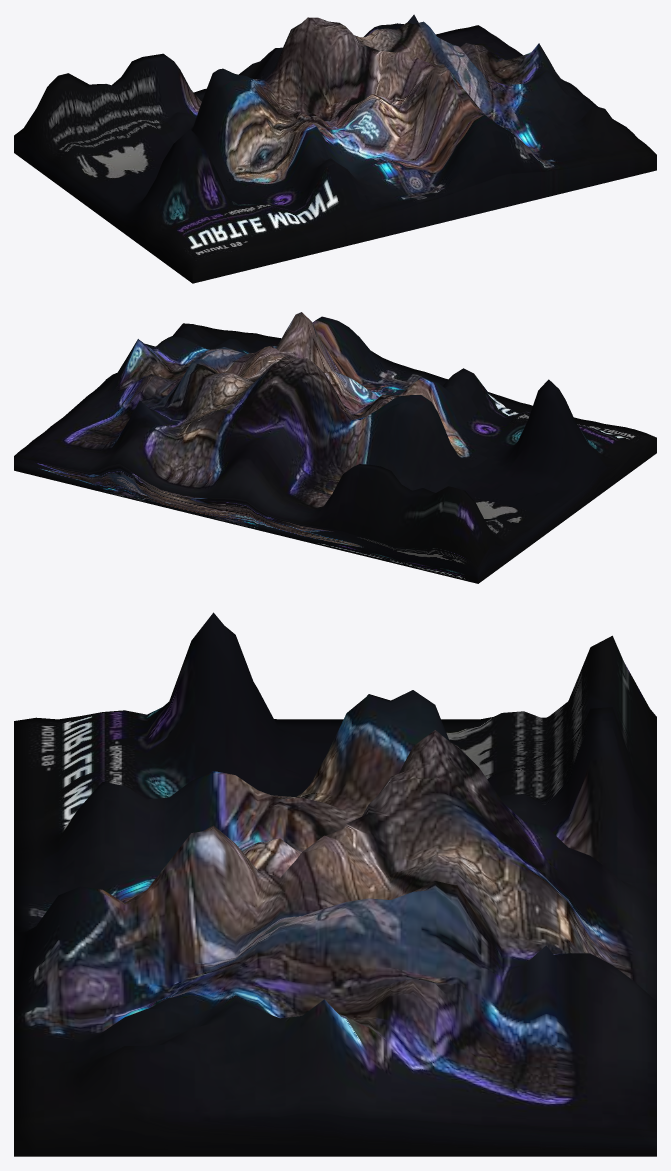
The model's file is MOUNT_09_Turtle_Mount.glb.
3 renders of one model, top to bottom at view 1: azimuth 30°, elevation 25°; view 2: azimuth 150°, elevation 25°; view 3: azimuth 270°, elevation 25°, orthographic. The views are drawn at different scales.
Visible parts, largest first — view 1: MOUNT_09_Turtle_Mount; view 2: MOUNT_09_Turtle_Mount; view 3: MOUNT_09_Turtle_Mount.
Boxes of the visible parts, x1,y1,x2,y2 form: MOUNT_09_Turtle_Mount: (14,14,656,283); MOUNT_09_Turtle_Mount: (14,312,656,583); MOUNT_09_Turtle_Mount: (14,612,656,1156).
Size of the model in its own units: 2 by 0.51 by 1.33.
Materials: 1 (1 with a texture image).
